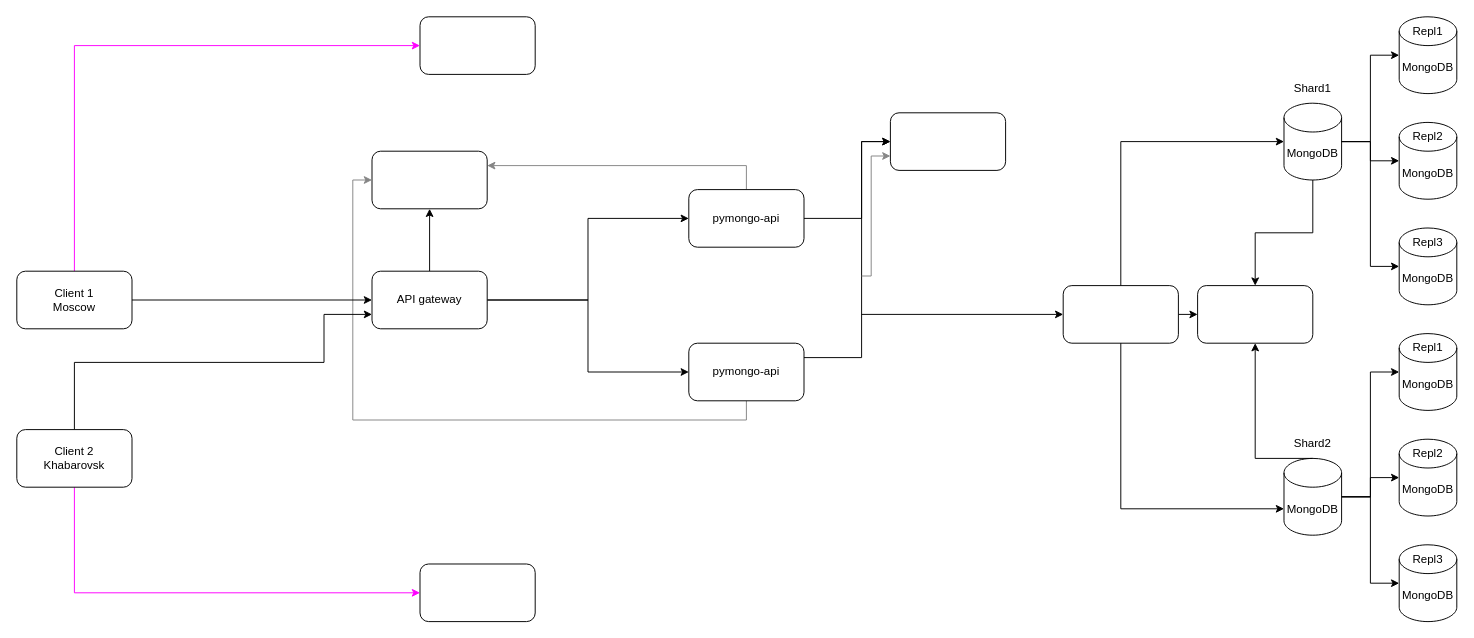
Some shapes in this 1474 by 638 pixel diagram are drawn without their labels. The shapes that lost their labels are listed below. From the top down, each one's centre as x and y in pixels, then its label:
At [477,45]: "CDN Europe".
At [947,141]: "Redis".
At [429,179]: "Consul".
At [1120,314]: "MongoRouter".
At [1255,314]: "Conf.Server".
At [477,592]: "CDN FarEast".
